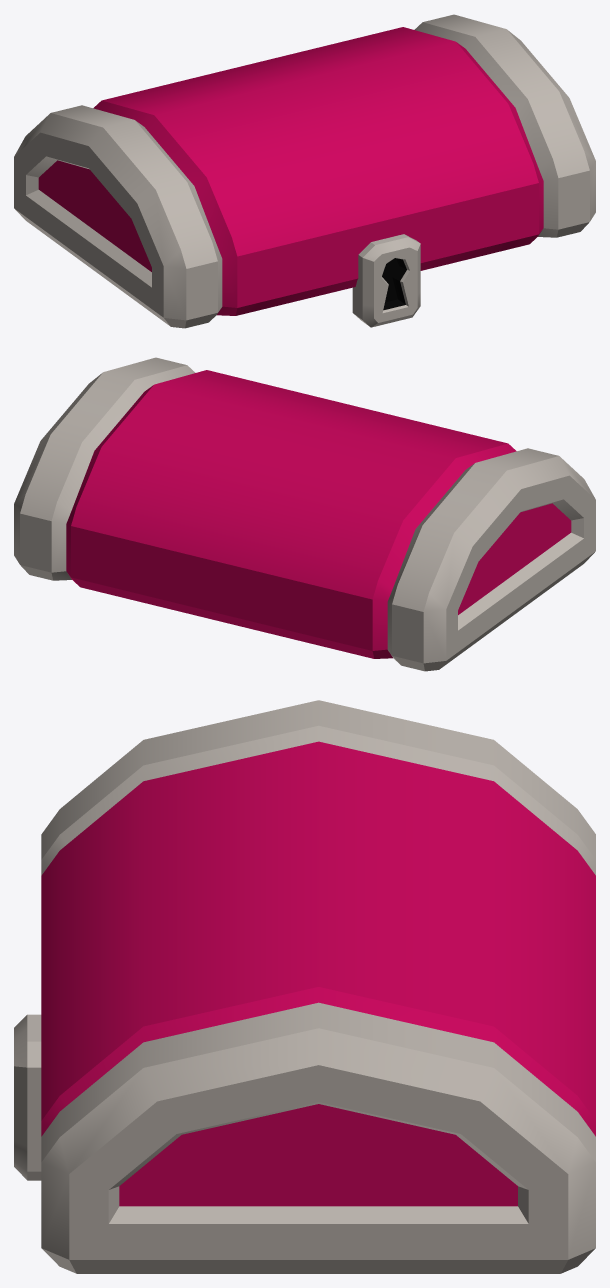
File: m_dec_dung_chestLargeA_lid.fbx
The picture shows the model from 3 angles, top to bottom: view 1: azimuth 30°, elevation 25°; view 2: azimuth 150°, elevation 25°; view 3: azimuth 270°, elevation 25°; orthographic projection. The views are drawn at different scales.
Visible parts, largest first — view 1: m_dec_dung_chestLargeA_lid; view 2: m_dec_dung_chestLargeA_lid; view 3: m_dec_dung_chestLargeA_lid.
Part boxes in pixels (x1,y1,x2,y2): m_dec_dung_chestLargeA_lid: (14,14,595,328); m_dec_dung_chestLargeA_lid: (14,357,595,671); m_dec_dung_chestLargeA_lid: (14,700,595,1273).
Size of the model in its own units: 3 by 1.19 by 2.1.
